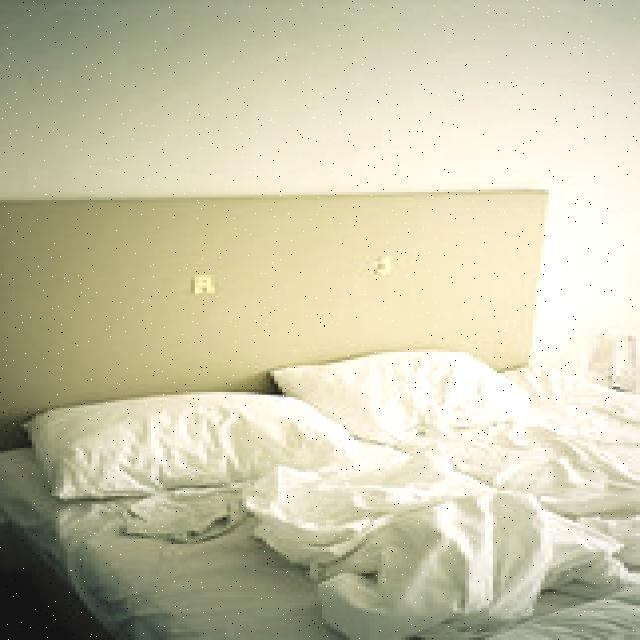bed: (0, 306, 640, 640)
